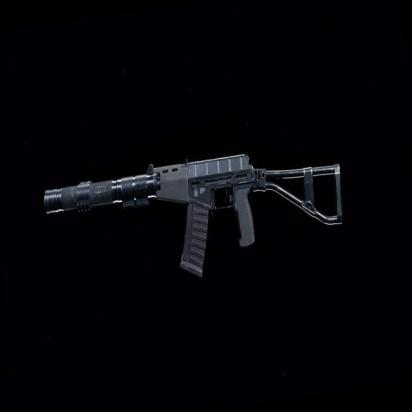Gun: (36, 124, 352, 305)
